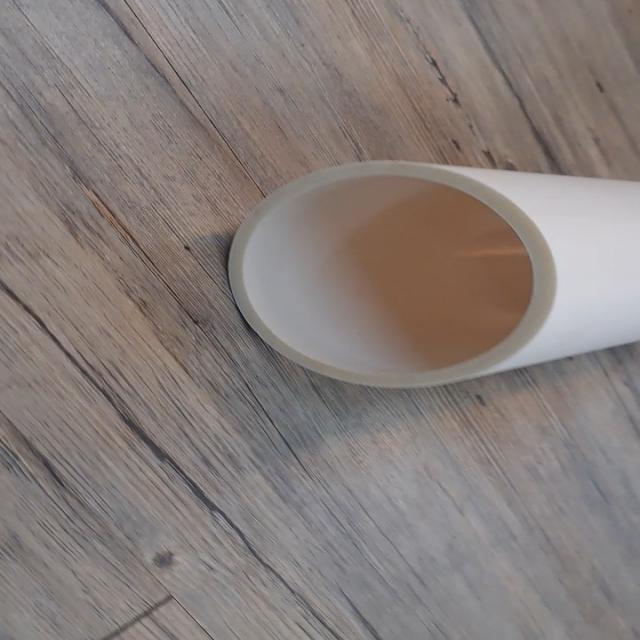CORAL: (223, 146, 640, 402)
